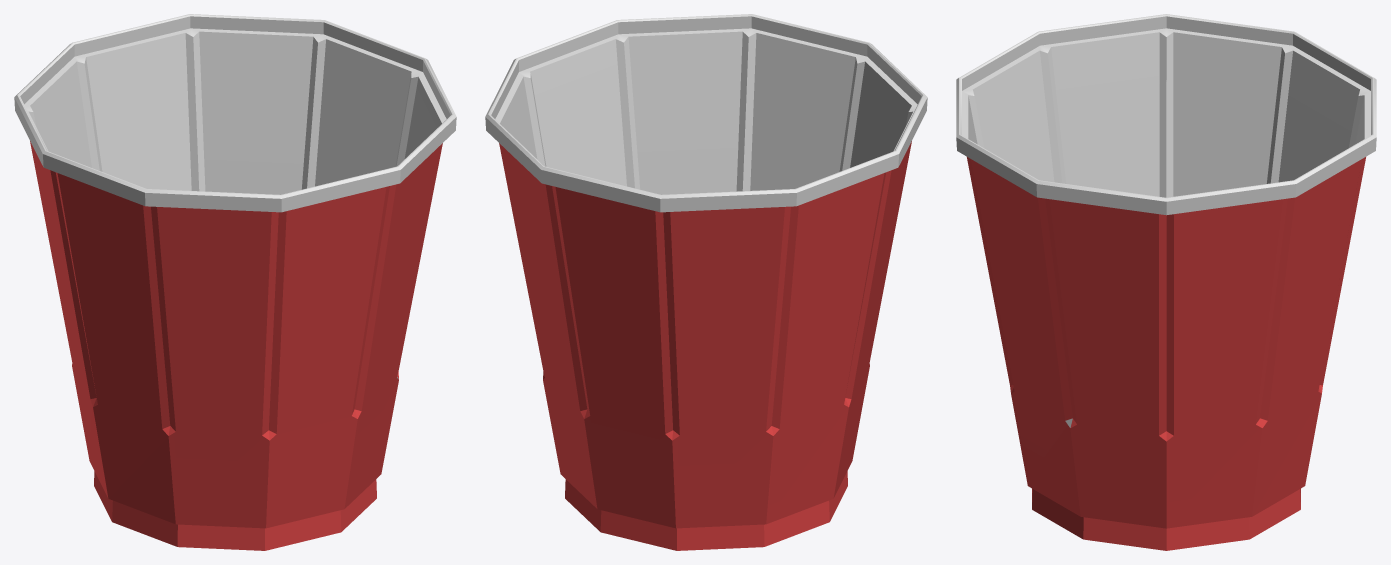
The model's file is Plastic Cup.fbx.
The picture shows the model from 3 angles, left to right: view 1: azimuth 30°, elevation 25°; view 2: azimuth 150°, elevation 25°; view 3: azimuth 270°, elevation 25°; orthographic projection.
Parts seen in each view (by area): view 1: Plastic_Cup1; view 2: Plastic_Cup1; view 3: Plastic_Cup1.
Part boxes in pixels (box(x1,y1,x2,y2)): Plastic_Cup1: box(14, 14, 456, 550); Plastic_Cup1: box(485, 14, 927, 550); Plastic_Cup1: box(956, 14, 1376, 550).
Size of the model in its own units: 5.53 by 5.31 by 5.26.
